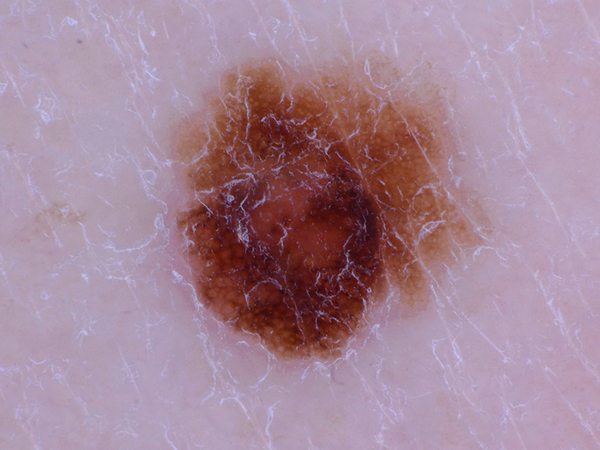Color changes: (251, 106, 292, 140)
